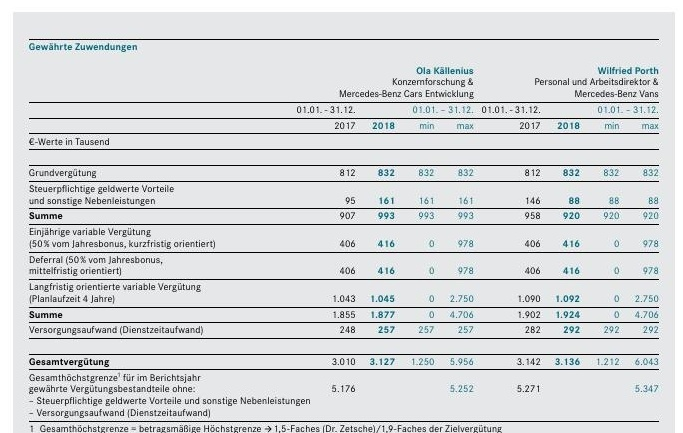table: (0, 0, 683, 433)
